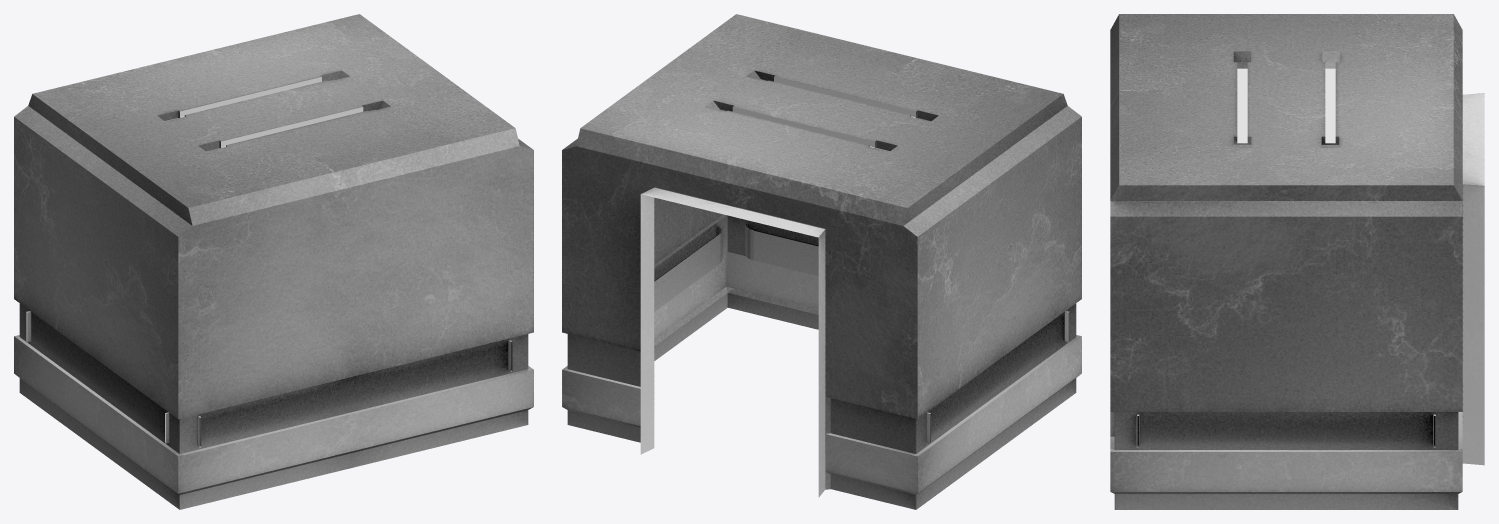
Rendered from elevator.fbx.
3 views of the same model, side by side, from view 1: azimuth 30°, elevation 25°; view 2: azimuth 150°, elevation 25°; view 3: azimuth 270°, elevation 25° (orthographic). The views are drawn at different scales.
Visible parts, largest first — view 1: Elevator; view 2: Elevator; view 3: Elevator.
Part boxes in pixels (x1,y1,x2,y2): Elevator: (14,14,533,509); Elevator: (562,14,1081,509); Elevator: (1110,14,1484,509).
Size of the model in its own units: 5 by 4.25 by 4.
